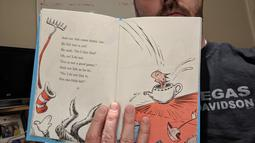text block: (56, 32, 108, 86)
